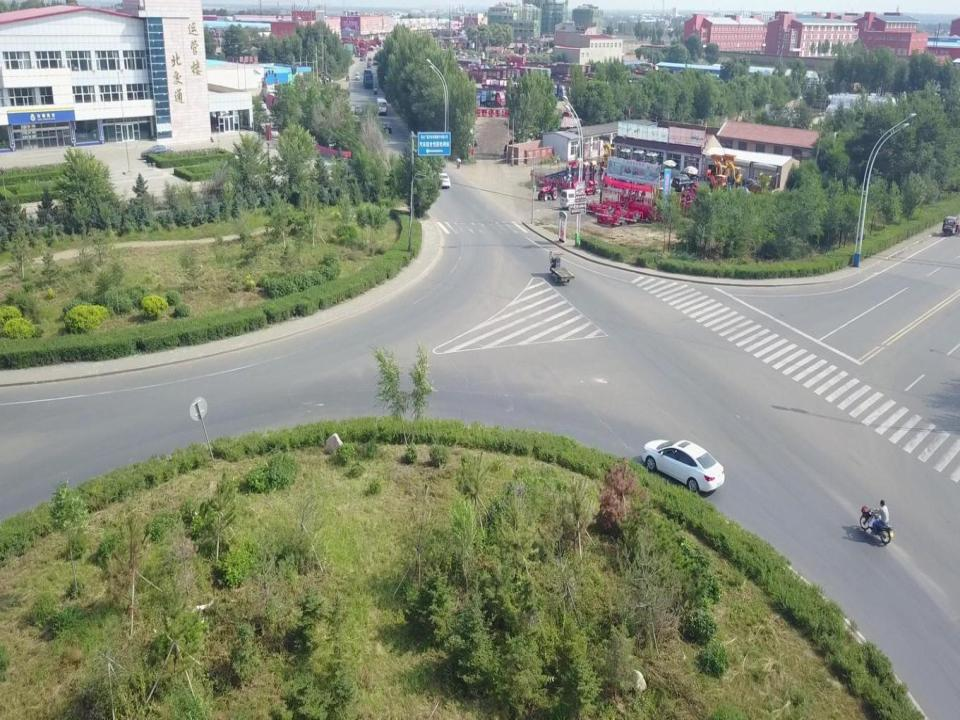car: (642, 440, 725, 493), (671, 173, 695, 193), (140, 145, 174, 159), (432, 172, 450, 188), (264, 126, 280, 138), (380, 122, 392, 134), (256, 100, 266, 111), (354, 104, 364, 115), (354, 73, 360, 79)
truck: (470, 90, 506, 108), (531, 83, 566, 100), (458, 70, 486, 82), (364, 69, 373, 89)
van: (560, 189, 588, 208), (374, 98, 388, 116)
